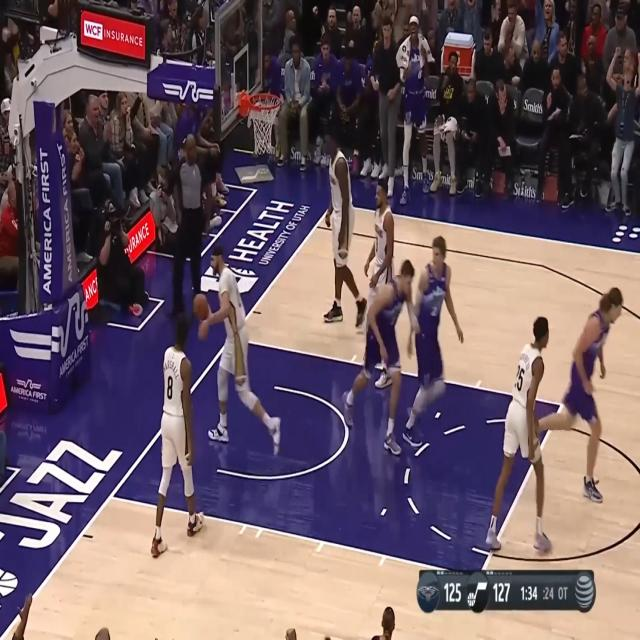Ball: (192, 294, 210, 323)
Hoop: (249, 90, 283, 157)
Period: (556, 583, 570, 603)
Player: (536, 284, 624, 504), (200, 244, 282, 459), (484, 312, 555, 556), (339, 258, 415, 460), (402, 232, 465, 447), (151, 315, 205, 556), (323, 128, 368, 330), (362, 180, 396, 388)
Ref: (161, 133, 214, 321)
Shot Clock: (543, 585, 554, 603)
Team Points: (442, 579, 464, 605), (492, 580, 513, 604)
Time Remaining: (518, 580, 540, 604)
